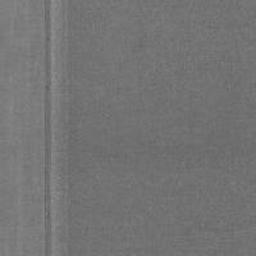Welding line: (42, 0, 54, 256)
